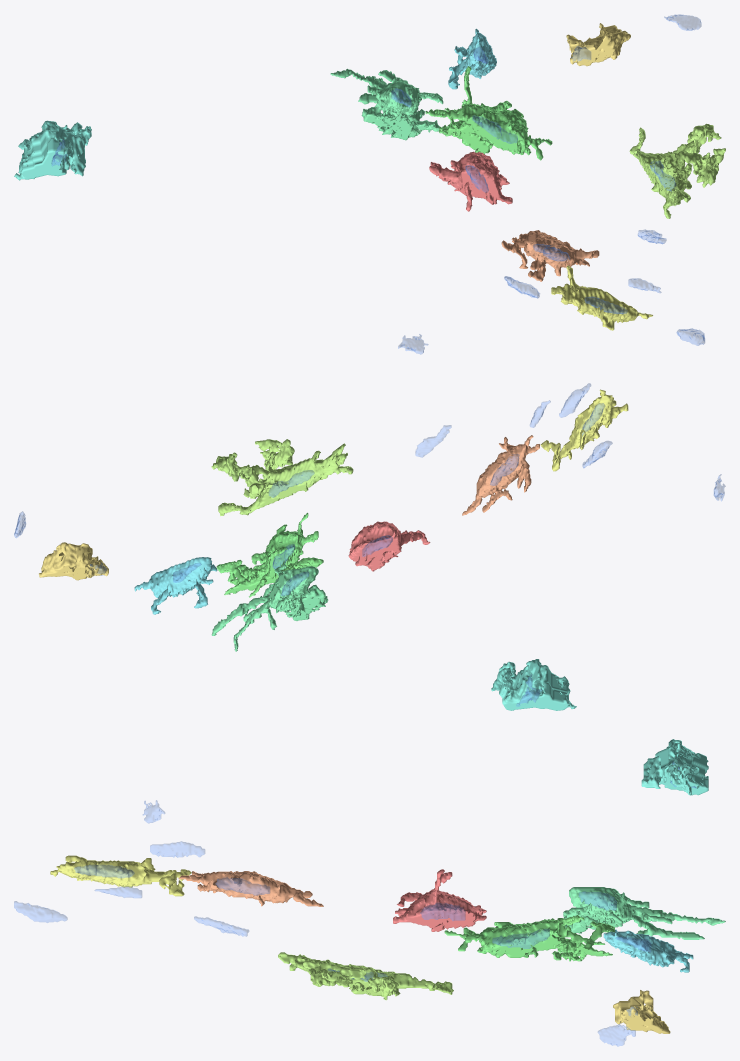
The picture shows the model from 3 angles, top to bottom: view 1: azimuth 30°, elevation 25°; view 2: azimuth 150°, elevation 25°; view 3: azimuth 270°, elevation 25°; orthographic projection. The views are drawn at different scales.
Parts seen in each view (by area): view 1: osteocyte_11, osteocyte_24, osteocyte_41, osteocyte_16, osteocyte_10, osteocyte_36, osteocyte_44, osteocyte_12, osteocyte_49; view 2: osteocyte_24, osteocyte_41, osteocyte_11, osteocyte_16, osteocyte_36, osteocyte_49, osteocyte_10, osteocyte_44, osteocyte_12; view 3: osteocyte_11, osteocyte_41, osteocyte_24, osteocyte_44, osteocyte_10, osteocyte_16, osteocyte_36, osteocyte_49, osteocyte_12, nucleus_6, nucleus_21, nucleus_3 (+5 smaller).
Part boxes in pixels (left/top/right/bottom): osteocyte_11: left=425, top=66, right=552, bottom=160; osteocyte_24: left=629, top=123, right=725, bottom=218; osteocyte_41: left=330, top=68, right=447, bottom=140; osteocyte_16: left=14, top=120, right=91, bottom=180; osteocyte_10: left=429, top=151, right=512, bottom=211; osteocyte_36: left=501, top=230, right=599, bottom=281; osteocyte_44: left=551, top=265, right=652, bottom=330; osteocyte_12: left=566, top=23, right=630, bottom=66; osteocyte_49: left=448, top=28, right=496, bottom=89; osteocyte_24: left=211, top=439, right=353, bottom=515; osteocyte_41: left=211, top=564, right=328, bottom=651; osteocyte_11: left=216, top=512, right=323, bottom=597; osteocyte_16: left=491, top=659, right=576, bottom=710; osteocyte_36: left=462, top=435, right=539, bottom=515; osteocyte_49: left=134, top=557, right=217, bottom=614; osteocyte_10: left=348, top=521, right=430, bottom=571; osteocyte_44: left=540, top=389, right=628, bottom=471; osteocyte_12: left=39, top=542, right=108, bottom=580; osteocyte_11: left=444, top=915, right=614, bottom=961; osteocyte_41: left=563, top=887, right=725, bottom=939; osteocyte_24: left=278, top=952, right=453, bottom=1000; osteocyte_44: left=50, top=855, right=191, bottom=896; osteocyte_10: left=393, top=869, right=486, bottom=931; osteocyte_16: left=641, top=739, right=708, bottom=795; osteocyte_36: left=178, top=871, right=323, bottom=906; osteocyte_49: left=603, top=929, right=693, bottom=972; osteocyte_12: left=613, top=990, right=670, bottom=1033; nucleus_6: left=492, top=929, right=549, bottom=948; nucleus_21: left=150, top=841, right=204, bottom=857; nucleus_3: left=14, top=901, right=67, bottom=922.
Size of the model in its own units: 164 by 8.05 by 166.
